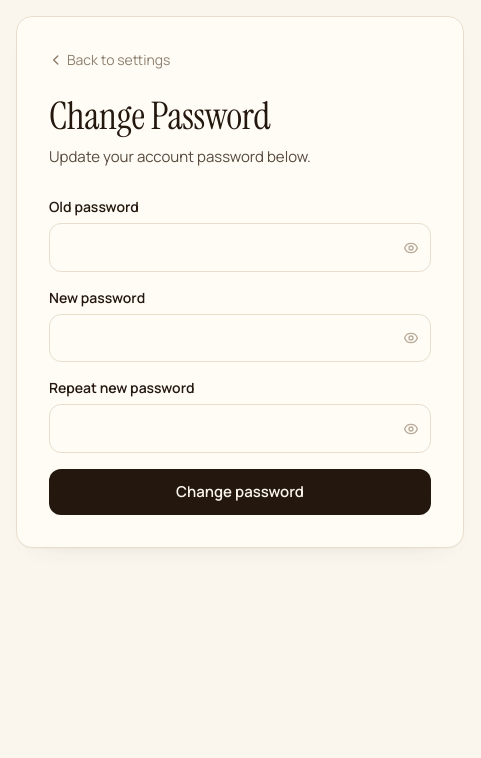
it: ChangePasswordPage › shows success message when password change succeeds
Step 1. Type "oldpass123" into the password field labelled "Old password" → {"x": 240, "y": 248}, box [49,223,431,272]
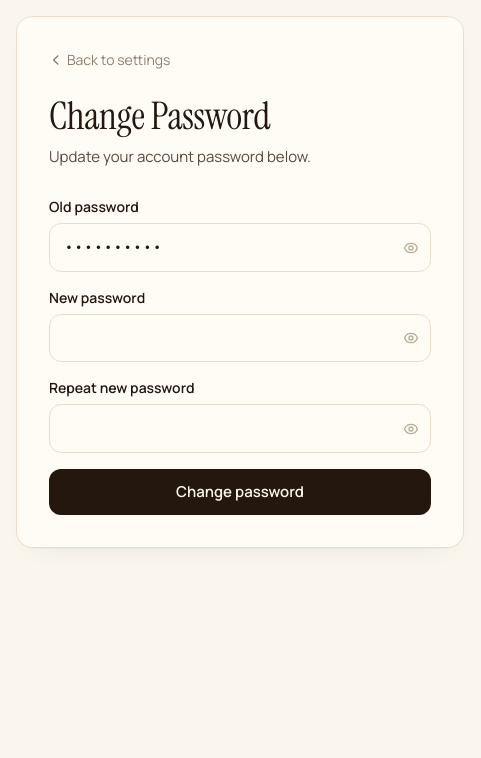
Step 2. Type "newpass456" into the password field labelled "New password" → {"x": 240, "y": 338}, box [49,314,431,362]
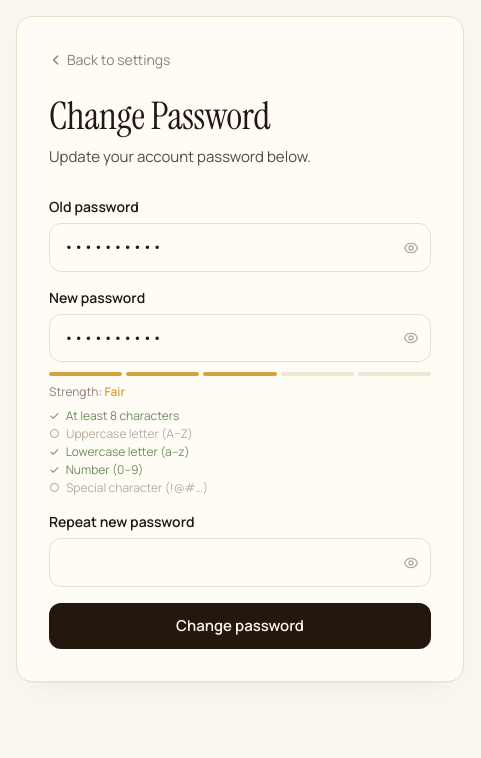
Step 3. Type "newpass456" into the password field labelled "Repeat new password" → {"x": 240, "y": 563}, box [49,538,431,587]
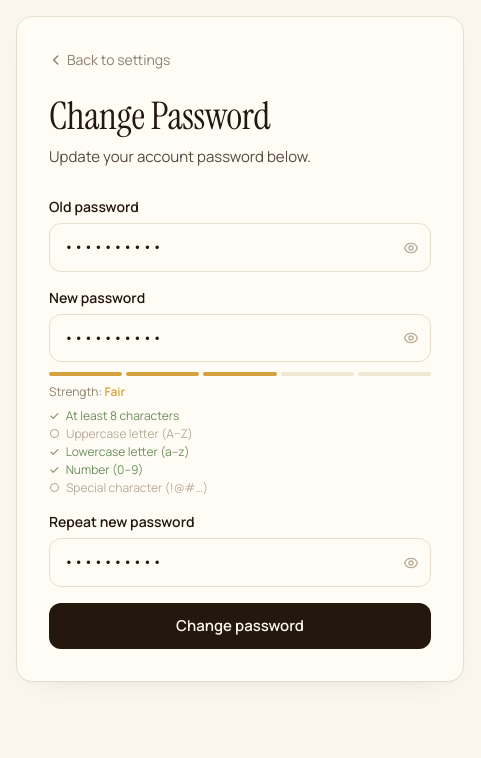
Step 4. Click the button "Change password" → {"x": 240, "y": 626}, box [49,603,431,649]
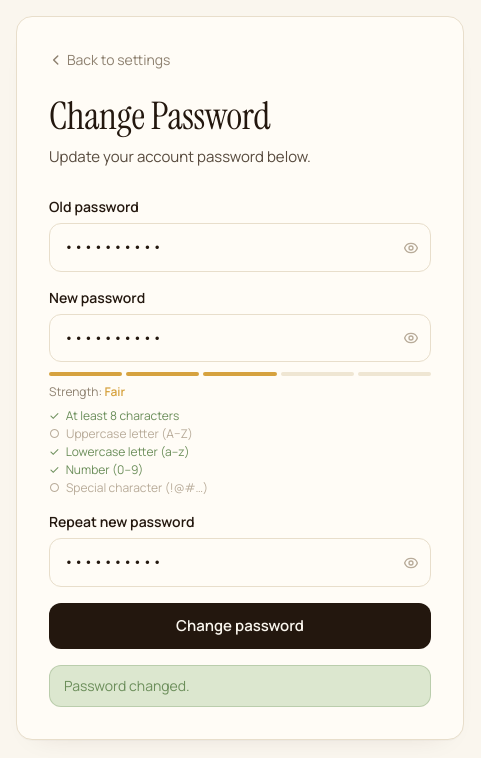
Result: the text "Password changed." is shown at [49,665,431,707]
